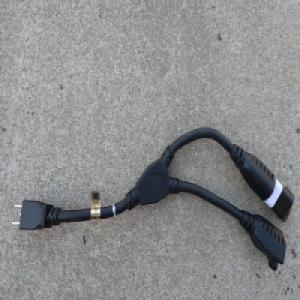Wire: (10, 126, 295, 270)
